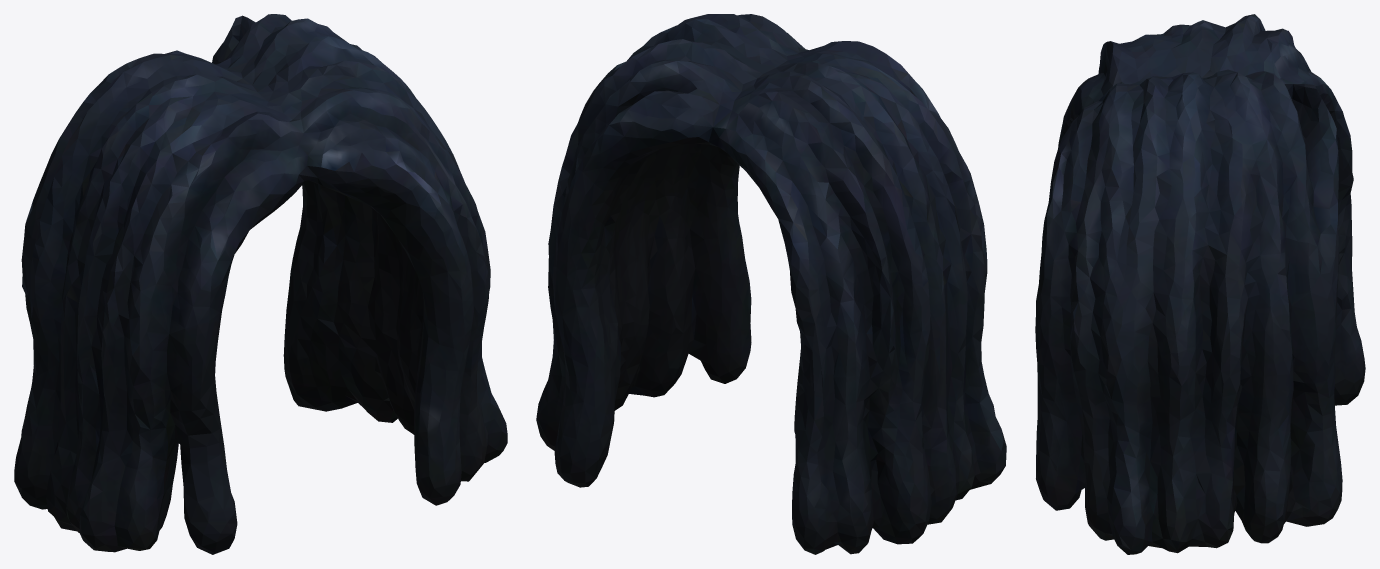
Rendered from hairstyle_054.glb.
3 views of the same model, side by side, from view 1: azimuth 30°, elevation 25°; view 2: azimuth 150°, elevation 25°; view 3: azimuth 270°, elevation 25° (orthographic). The views are drawn at different scales.
Parts seen in each view (by area): view 1: geometry_0_054; view 2: geometry_0_054; view 3: geometry_0_054.
Part boxes in pixels (x1,y1,x2,y2): geometry_0_054: (14,14,507,554); geometry_0_054: (536,14,1006,554); geometry_0_054: (1035,14,1365,554).
Bounding box in the file's own units: 1.66 × 1.65 × 1.16.
Materials: 1 (1 with a texture image).
